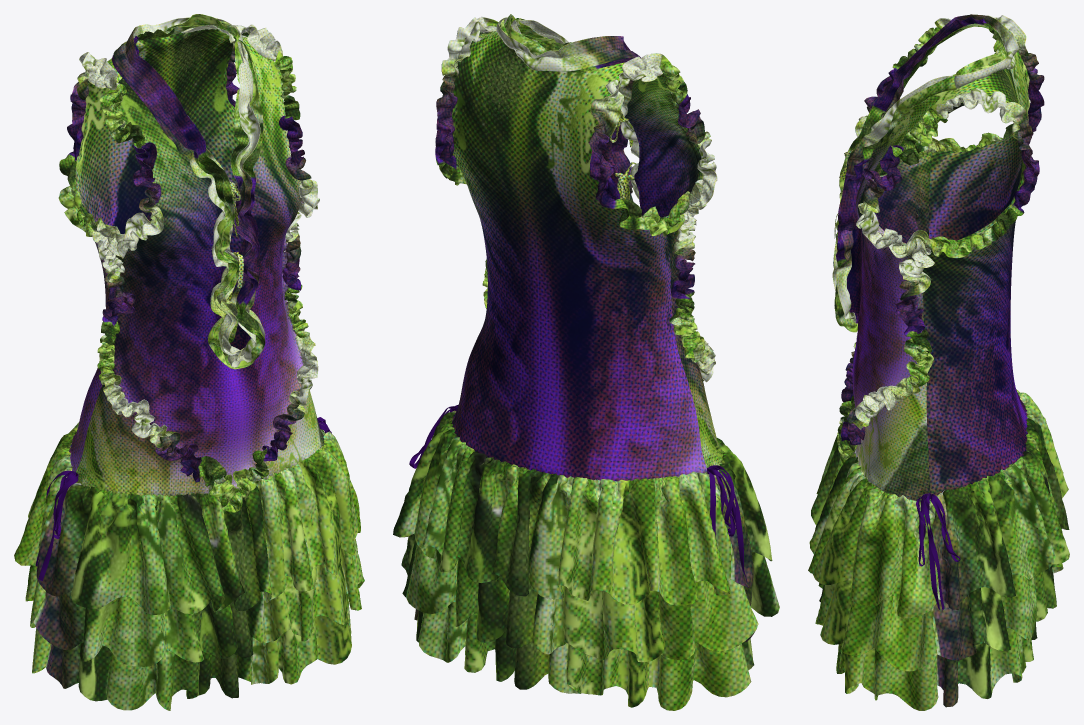
File: vestidolechuga.glb
3 views of the same model, side by side, from view 1: azimuth 30°, elevation 25°; view 2: azimuth 150°, elevation 25°; view 3: azimuth 270°, elevation 25° (orthographic). The views are drawn at different scales.
Visible parts, largest first — view 1: Cloth.001; view 2: Cloth.001; view 3: Cloth.001.
Boxes of the visible parts, x1=… form: Cloth.001: x1=14, y1=14, x2=364, y2=710; Cloth.001: x1=393, y1=14, x2=779, y2=710; Cloth.001: x1=808, y1=14, x2=1069, y2=710.
Size of the model in its own units: 0.4864 by 0.9052 by 0.3469.
Materials: 5 (5 with a texture image).
